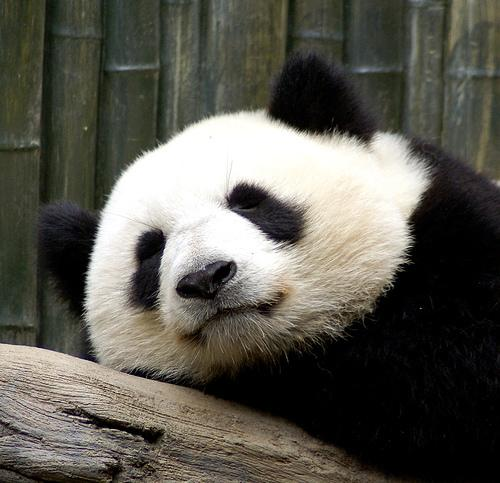panda: (39, 53, 499, 479)
